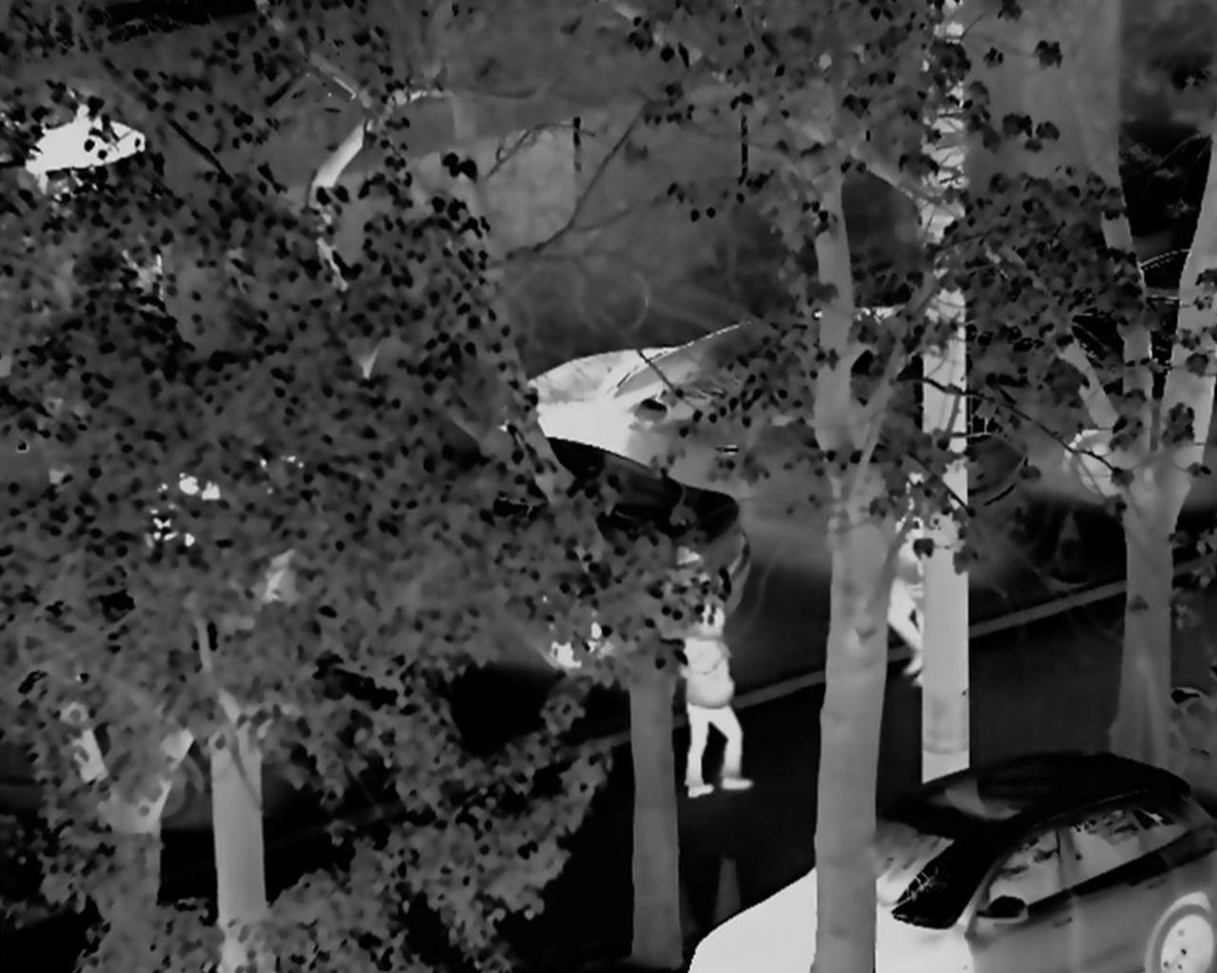person: (881, 461, 961, 699), (676, 609, 753, 809)
